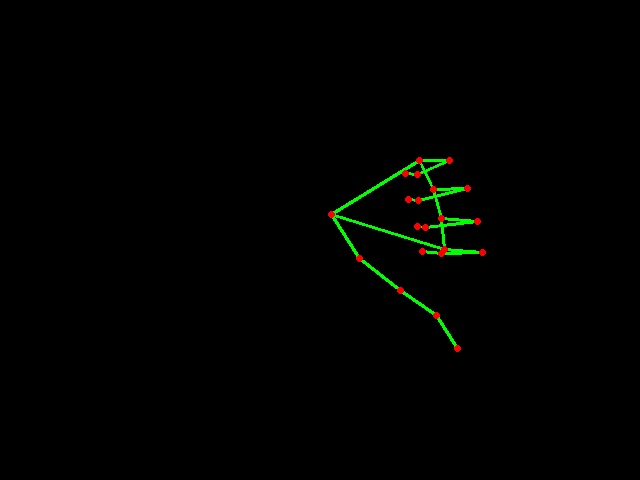slow: (324, 138, 489, 367)
